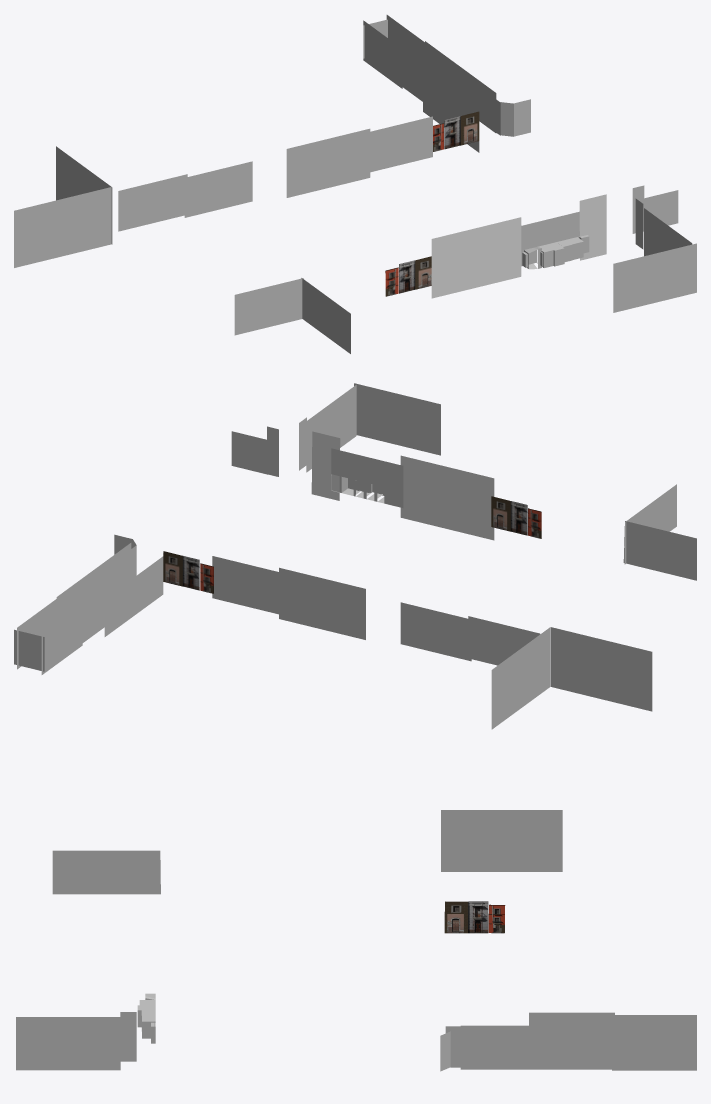
Rendered from TolosEdifisioh.fbx.
The picture shows the model from 3 angles, top to bottom: view 1: azimuth 30°, elevation 25°; view 2: azimuth 150°, elevation 25°; view 3: azimuth 270°, elevation 25°; orthographic projection. The views are drawn at different scales.
Visible parts, largest first — view 1: Fachada 03, Fachada 02b, Fachada 02, Fachada 02.001, Samborns.004, Samborns.002, Fachada 01, Samborns, Samborns.001, Samborns.003, Fachada 03.001, Fachada 01.003 (+11 smaller); view 2: Fachada 03, Fachada 02b, Fachada 02.001, Fachada 02, Fachada 03.001, Samborns.002, Samborns.001, Samborns.004, Fachada 01, Fachada 03.002, Samborns, Fachada 01.001 (+13 smaller); view 3: Fachada 03.001, Fachada 01.001, Samborns.003, Samborns.005, Fachada 01.002, Samborns.006, Fachada 05, Samborns.007, Fachada 01.003, Fachada 06, Samborns.004.
Part boxes in pixels (bbox=[...]): Fachada 03: bbox=[14, 187, 111, 267]; Fachada 02b: bbox=[431, 217, 521, 298]; Fachada 02: bbox=[286, 128, 370, 197]; Fachada 02.001: bbox=[613, 243, 696, 312]; Samborns.004: bbox=[521, 211, 589, 269]; Samborns.002: bbox=[234, 278, 303, 335]; Fachada 01: bbox=[184, 161, 252, 217]; Samborns: bbox=[118, 174, 187, 231]; Samborns.001: bbox=[370, 116, 432, 172]; Samborns.003: bbox=[301, 278, 350, 353]; Fachada 03.001: bbox=[56, 146, 112, 244]; Fachada 01.003: bbox=[363, 20, 402, 88]; Fachada 03: bbox=[550, 627, 652, 711]; Fachada 02b: bbox=[400, 455, 494, 540]; Fachada 02.001: bbox=[354, 383, 440, 455]; Fachada 02: bbox=[279, 567, 365, 639]; Fachada 03.001: bbox=[491, 627, 550, 729]; Samborns.002: bbox=[623, 521, 696, 580]; Samborns.001: bbox=[212, 556, 284, 615]; Samborns.004: bbox=[331, 448, 403, 507]; Fachada 01: bbox=[400, 602, 471, 661]; Fachada 03.002: bbox=[104, 556, 163, 636]; Samborns: bbox=[468, 616, 540, 665]; Fachada 01.001: bbox=[306, 385, 356, 472]; Fachada 03.001: bbox=[441, 810, 562, 871]; Fachada 01.001: bbox=[16, 1017, 120, 1070]; Samborns.003: bbox=[52, 850, 160, 894]; Samborns.005: bbox=[460, 1025, 546, 1069]; Fachada 01.002: bbox=[612, 1027, 696, 1070]; Samborns.006: bbox=[546, 1025, 614, 1069]; Fachada 05: bbox=[444, 901, 505, 933]; Samborns.007: bbox=[529, 1012, 614, 1025]; Fachada 01.003: bbox=[615, 1015, 696, 1027]; Fachada 06: bbox=[120, 1012, 136, 1061]; Samborns.004: bbox=[137, 993, 155, 1043].
Size of the model in its own units: 13335 by 1477 by 13702.
